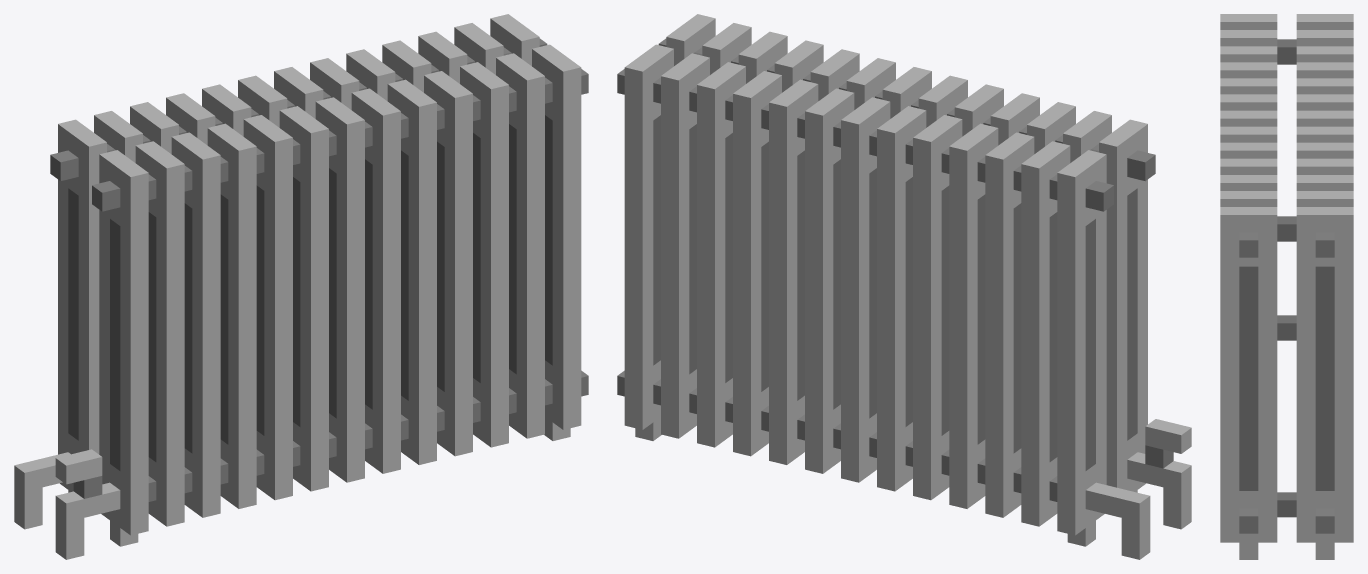
File: Radiator.obj
3 renders of one model, left to right at view 1: azimuth 30°, elevation 25°; view 2: azimuth 150°, elevation 25°; view 3: azimuth 270°, elevation 25°, orthographic. The views are drawn at different scales.
Bounding box in the file's own units: 2.9 × 2 × 0.7.
Materials: 1 (1 with a texture image).
